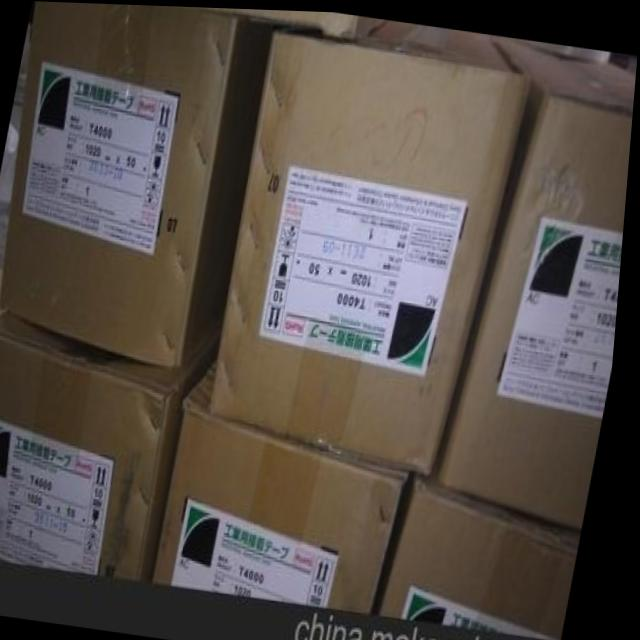box: (214, 13, 535, 471), (6, 1, 273, 368), (441, 31, 637, 526), (162, 354, 423, 610), (0, 310, 228, 577), (390, 469, 588, 636)
